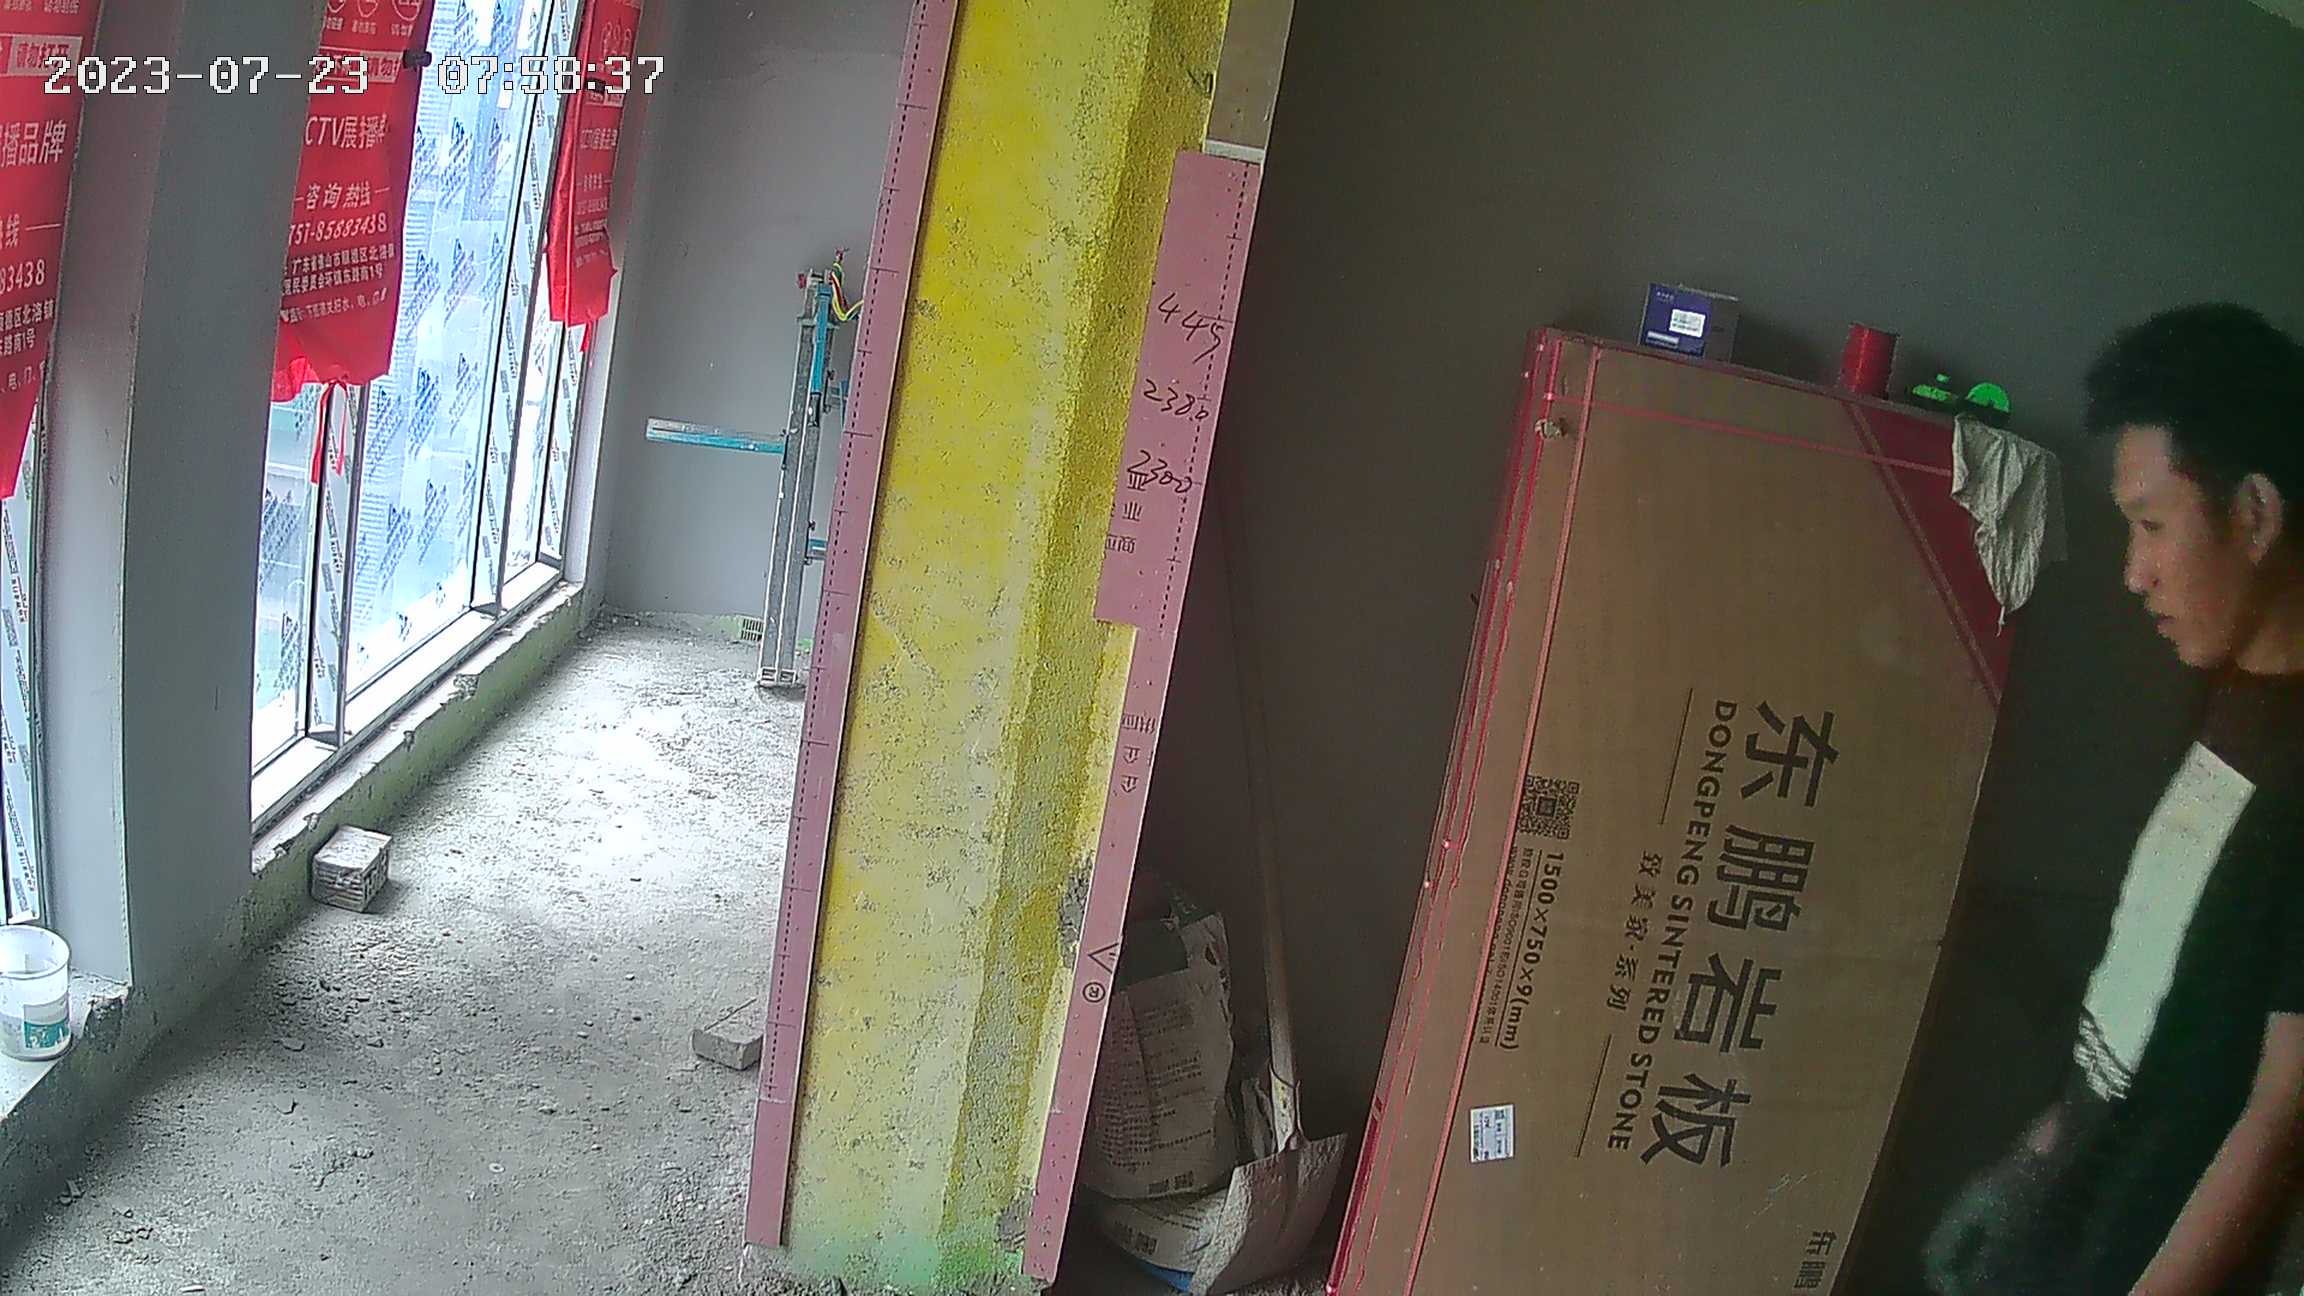people: (1942, 300, 2299, 1296)
window: (247, 1, 584, 811)
